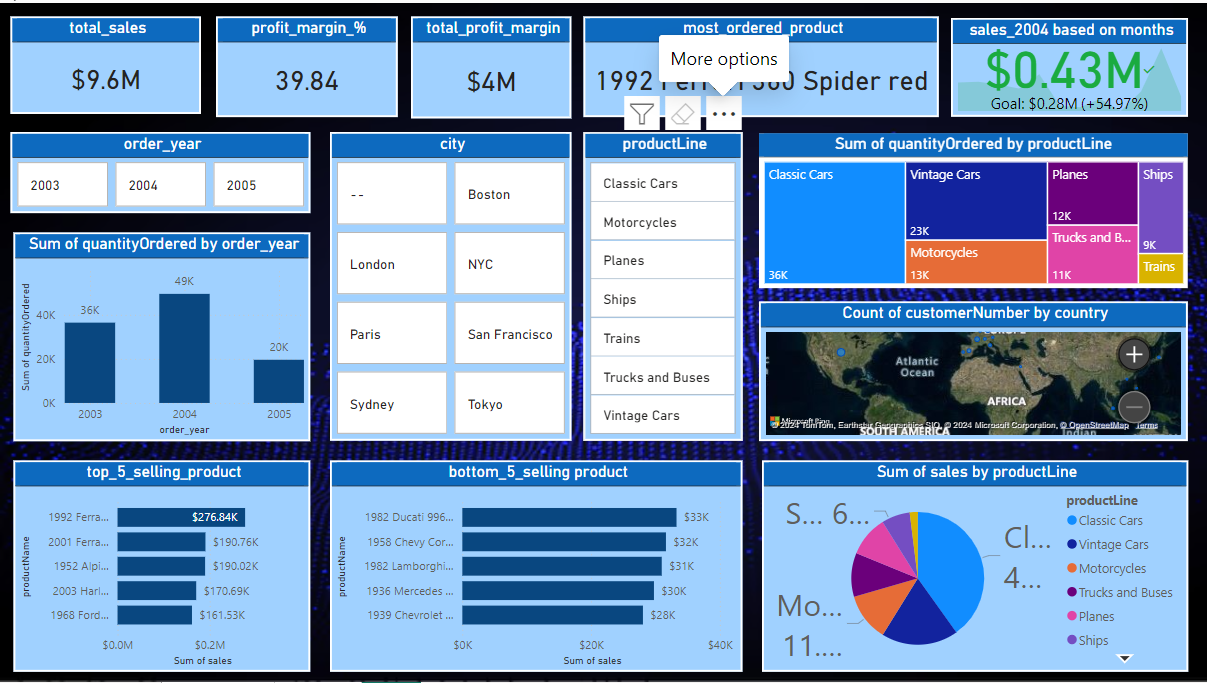

The page's visual inventory and layout, read from the dashboard file:
{"tool":"powerbi","page":{"name":"Page 1","canvas":[1280,720],"ordinal":0},"visuals":[{"type":"card","title":"total_profit_margin","fields":{"Values":["order details.total_profit"]},"box":[435.8,14.3,170.2,108.2],"z":0},{"type":"card","title":"most_ordered_product","fields":{"Values":["order details.MostOrderedProduct"]},"box":[618.7,14.3,377,106.6],"z":1000},{"type":"barChart","title":"top_5_selling_product","fields":{"Category":["products.productName"],"Y":["Sum(order details.sales)"]},"box":[14.3,485.1,314.9,224.3],"z":2000},{"type":"pieChart","fields":{"Category":["products.productLine"],"Y":["Sum(order details.sales)"]},"box":[808,485.1,451.7,224.3],"z":3000},{"type":"advancedSlicerVisual","fields":{"Values":["orders.order_year"]},"box":[11.1,136.8,318.1,85.9],"z":4000},{"type":"kpi","title":"sales_2004 based on months","fields":{"Goal":["orders.sales_2004"],"TrendLine":["orders.Month Name"],"Indicator":["orders.sales_2003"]},"box":[1008.4,15.9,251.3,105],"z":5000},{"type":"map","fields":{"Size":["CountNonNull(customers.customerNumber)"],"Category":["customers.country"]},"box":[804.8,316.5,454.9,147.9],"z":6000},{"type":"treemap","fields":{"Group":["product lines.productLine"],"Values":["Sum(order details.quantityOrdered)"]},"box":[804.8,138.4,454.9,163.8],"z":7000},{"type":"clusteredColumnChart","fields":{"Category":["orders.order_year"],"Y":["Sum(order details.quantityOrdered)"]},"box":[14.3,243.4,314.9,221.1],"z":8000},{"type":"card","title":"profit_margin_%","fields":{"Values":["classic model.profit_margin_%"]},"box":[229,14.3,192.5,106.6],"z":8001},{"type":"card","title":"total_sales","fields":{"Values":["Sum(order details.sales)"]},"box":[11.1,14.3,202,103.4],"z":8002},{"type":"advancedSlicerVisual","fields":{"Values":["office.city"]},"box":[349.9,136.8,256.1,327.7],"z":8003},{"type":"advancedSlicerVisual","fields":{"Values":["product lines.productLine"]},"box":[618.7,136.8,168.6,327.7],"z":8004},{"type":"barChart","title":"bottom_5_selling product","fields":{"Category":["products.productName"],"Y":["Sum(order details.sales)"]},"box":[349.9,485.1,437.4,224.3],"z":8005}]}

Visuals, with their boxes in screenshot pixels (x1, y1, x2, y2), scaled from the page's 1280x720 canvas onto the 1207x683 screenshot:
"total_profit_margin" card: (411,14,571,116)
"most_ordered_product" card: (583,14,939,115)
"top_5_selling_product" barChart: (13,460,310,673)
pieChart - products.productLine x Sum(order details.sales): (762,460,1188,673)
advancedSlicerVisual - orders.order_year: (10,130,310,211)
"sales_2004 based on months" kpi: (951,15,1188,115)
map - CountNonNull(customers.customerNumber) x customers.country: (759,300,1188,441)
treemap - product lines.productLine x Sum(order details.quantityOrdered): (759,131,1188,287)
clusteredColumnChart - orders.order_year x Sum(order details.quantityOrdered): (13,231,310,441)
"profit_margin_%" card: (216,14,397,115)
"total_sales" card: (10,14,201,112)
advancedSlicerVisual - office.city: (330,130,571,441)
advancedSlicerVisual - product lines.productLine: (583,130,742,441)
"bottom_5_selling product" barChart: (330,460,742,673)
